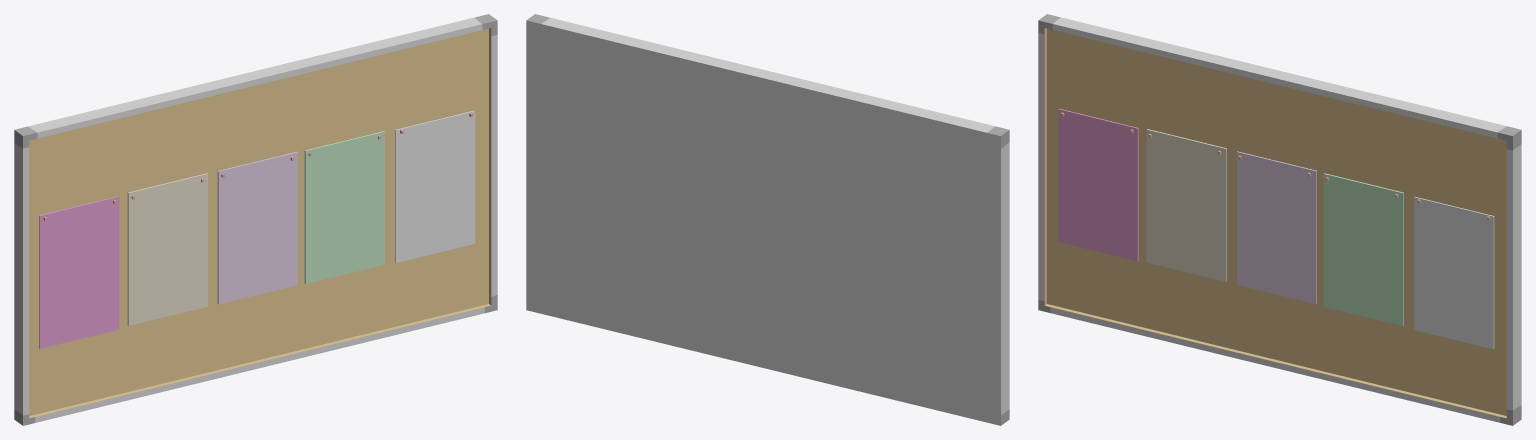
Rendered from board2_1.fbx.
The picture shows the model from 3 angles, left to right: view 1: azimuth 30°, elevation 25°; view 2: azimuth 150°, elevation 25°; view 3: azimuth 330°, elevation 25°; orthographic projection.
Visible parts, largest first — view 1: Boole_1, Cube_7, Cube_1, Cube_2, Cube_6, Cube_5; view 2: Boole_1; view 3: Boole_1, Cube_7, Cube_1, Cube_6, Cube_5, Cube_2.
Boxes of the visible parts, left/top/right/bottom form: Boole_1: left=14, top=14, right=497, bottom=425; Cube_7: left=304, top=131, right=384, bottom=283; Cube_1: left=127, top=173, right=207, bottom=325; Cube_2: left=217, top=151, right=297, bottom=304; Cube_6: left=39, top=196, right=119, bottom=348; Cube_5: left=395, top=110, right=475, bottom=262; Boole_1: left=526, top=14, right=1009, bottom=425; Boole_1: left=1038, top=14, right=1521, bottom=425; Cube_7: left=1323, top=173, right=1403, bottom=325; Cube_1: left=1146, top=129, right=1226, bottom=281; Cube_6: left=1058, top=108, right=1138, bottom=261; Cube_5: left=1414, top=197, right=1494, bottom=349; Cube_2: left=1237, top=151, right=1316, bottom=303.
Size of the model in its own units: 200 by 117 by 6.41.
